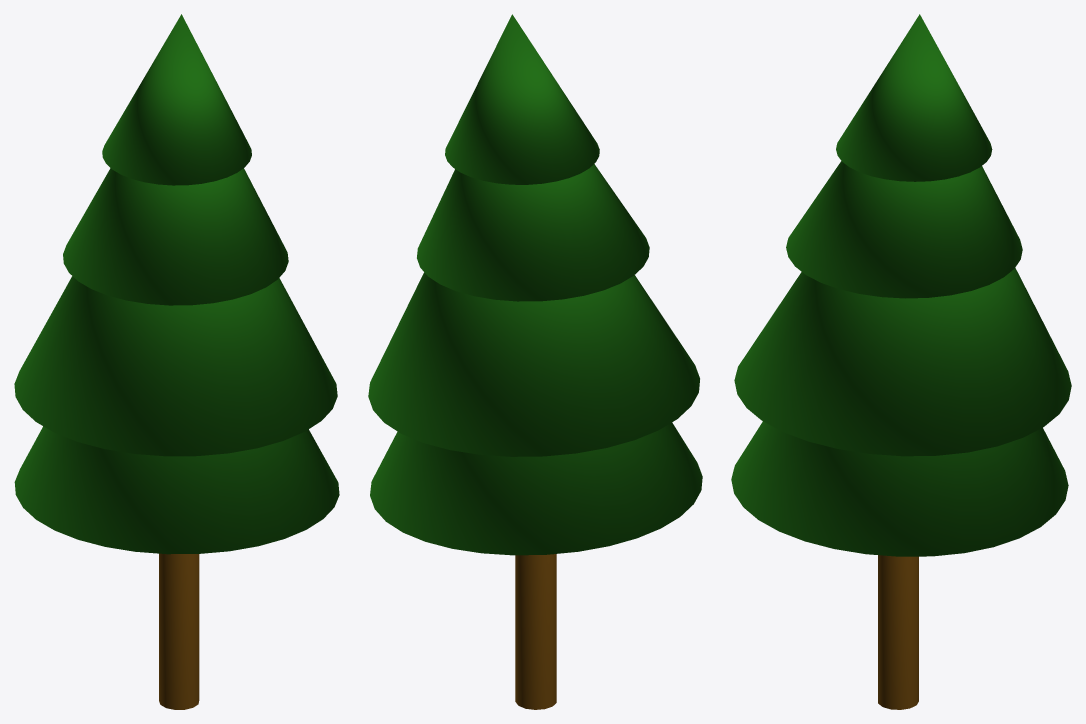
The model's file is Swierk.fbx.
The picture shows the model from 3 angles, left to right: view 1: azimuth 30°, elevation 25°; view 2: azimuth 150°, elevation 25°; view 3: azimuth 270°, elevation 25°; orthographic projection. The views are drawn at different scales.
Parts seen in each view (by area): view 1: igly, pien; view 2: igly, pien; view 3: igly, pien.
Part boxes in pixels (x1,y1,x2,y2): igly: [14, 14, 339, 554]; pien: [159, 553, 199, 709]; igly: [368, 14, 702, 555]; pien: [515, 554, 556, 709]; igly: [731, 14, 1071, 556]; pien: [878, 555, 918, 709].
Bounding box in the file's own units: 726 × 1671 × 743.
